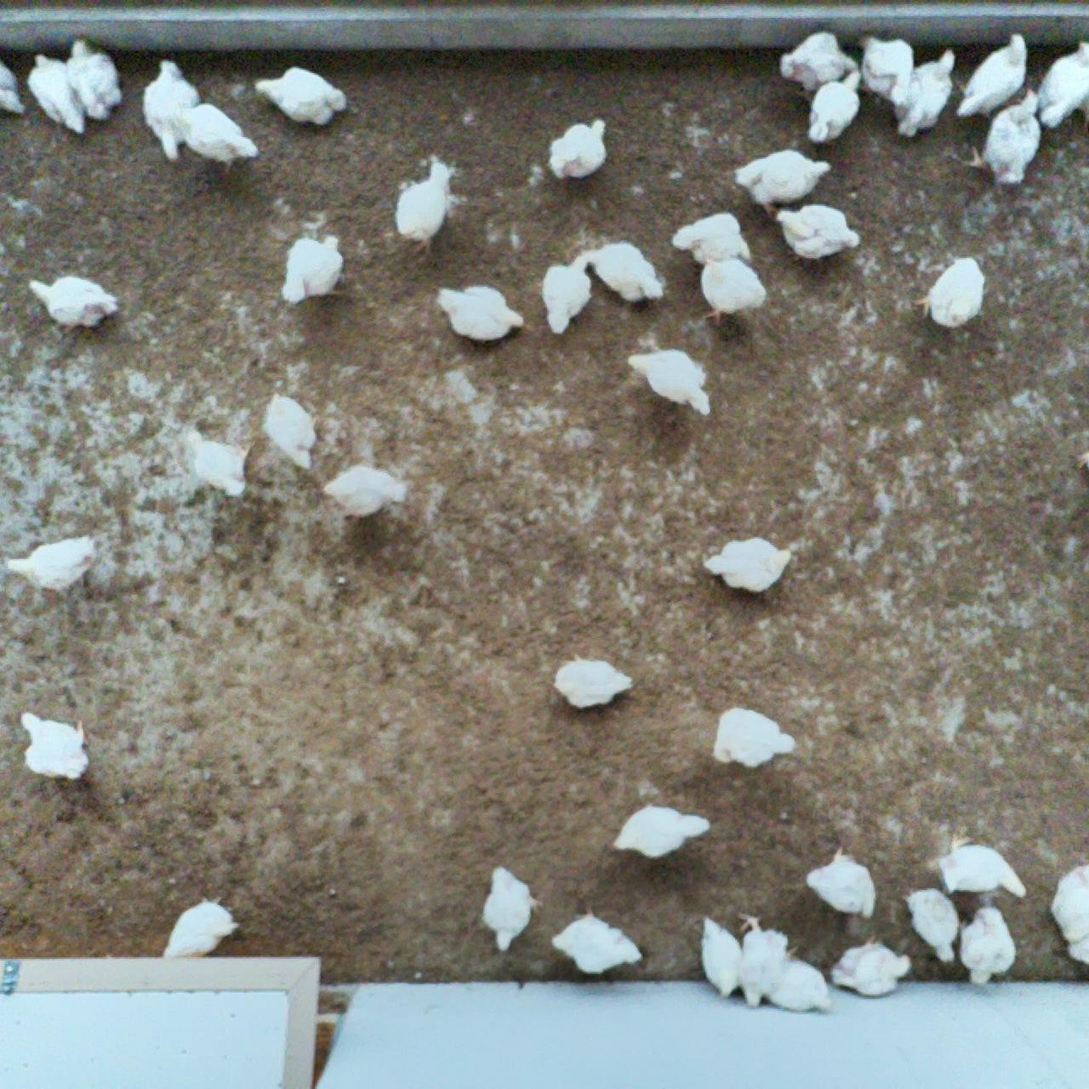chicken: (963, 86, 1044, 185), (949, 29, 1035, 120), (165, 96, 260, 177), (247, 60, 349, 132), (732, 147, 835, 218), (888, 48, 960, 144), (770, 200, 866, 268), (392, 155, 455, 258), (733, 909, 797, 1008), (627, 347, 712, 420), (609, 805, 718, 861), (550, 911, 642, 977), (141, 61, 201, 162), (157, 892, 237, 965), (708, 706, 800, 769), (17, 706, 92, 783), (914, 254, 988, 331), (435, 284, 529, 344), (479, 864, 543, 952), (805, 846, 880, 921), (3, 533, 95, 594), (64, 38, 127, 126), (701, 535, 793, 595), (778, 26, 861, 92), (1029, 38, 1089, 129), (580, 241, 664, 306), (27, 273, 119, 331), (952, 903, 1014, 989), (181, 426, 252, 501), (261, 386, 320, 475), (550, 651, 636, 712), (697, 248, 765, 325), (25, 53, 87, 137), (830, 934, 911, 998), (323, 464, 411, 522), (939, 844, 1028, 901), (279, 232, 347, 306), (668, 211, 754, 268), (805, 66, 863, 147), (902, 883, 962, 961), (762, 950, 834, 1015), (698, 912, 747, 1003), (546, 115, 610, 184), (541, 250, 592, 336), (1049, 866, 1089, 967), (859, 31, 912, 107), (0, 54, 26, 118)
